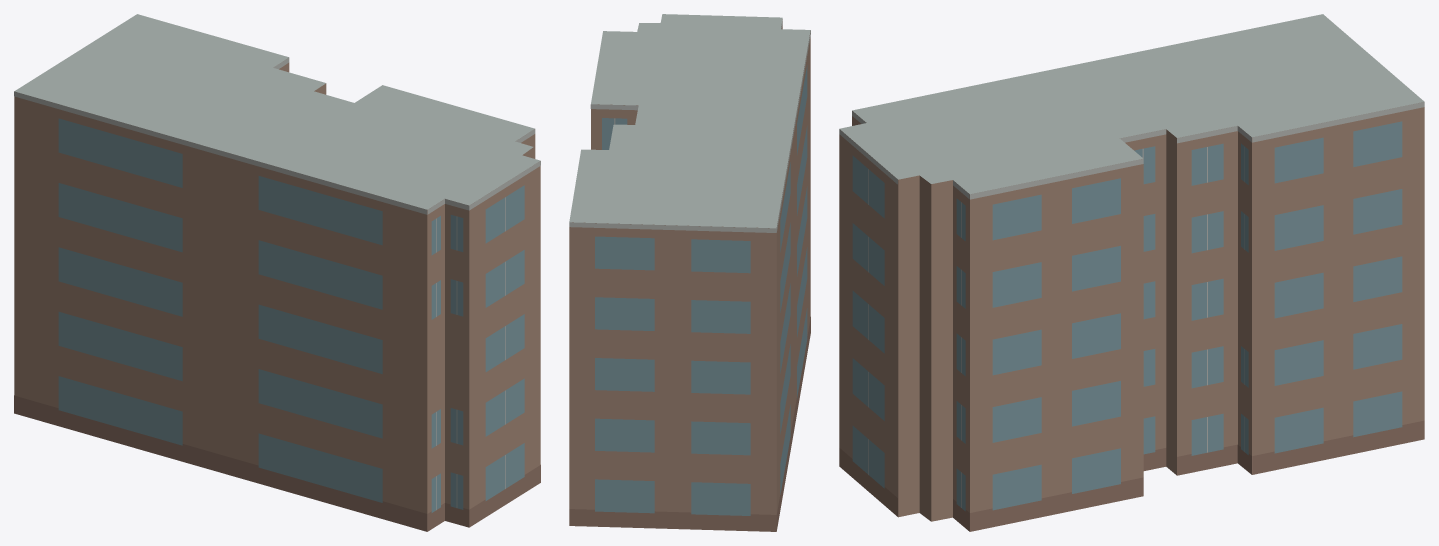
File: survey-upis-32492128.glb
3 renders of one model, left to right at view 1: azimuth 30°, elevation 25°; view 2: azimuth 150°, elevation 25°; view 3: azimuth 270°, elevation 25°, orthographic. The views are drawn at different scales.
Visible parts, largest first — view 1: survey-upis-32492128.tmp; view 2: survey-upis-32492128.tmp; view 3: survey-upis-32492128.tmp.
Part boxes in pixels (x1,y1,x2,y2): survey-upis-32492128.tmp: (14,14,540,531); survey-upis-32492128.tmp: (569,14,810,531); survey-upis-32492128.tmp: (839,14,1424,531).
Size of the model in its own units: 17.76 by 15.5 by 24.37.
